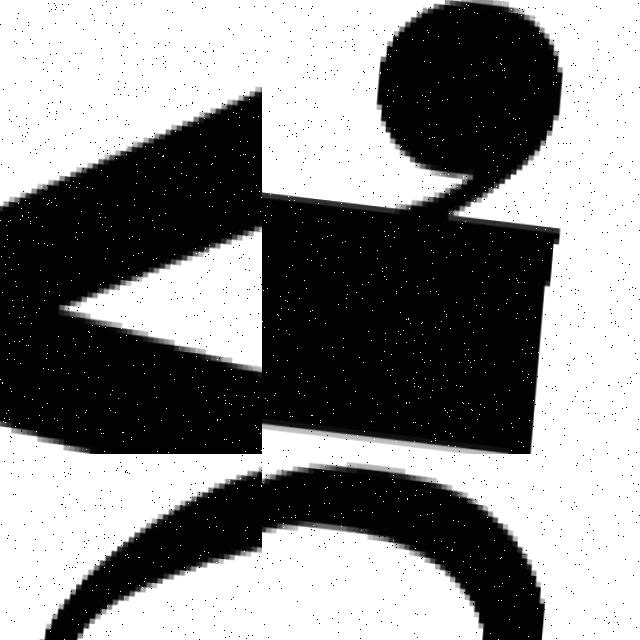0: (25, 454, 262, 640)
6: (262, 454, 640, 640)
R: (262, 0, 585, 454)
V: (0, 0, 262, 454)
